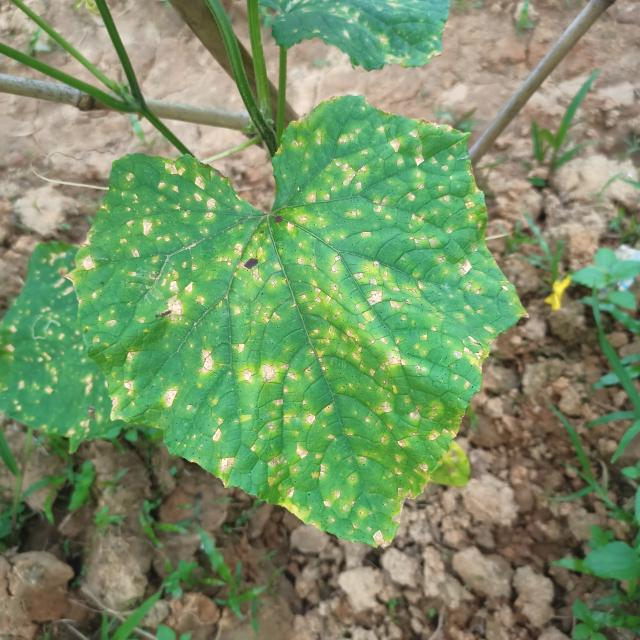disease_cucumber: (105, 125, 487, 534), (0, 252, 108, 437)
